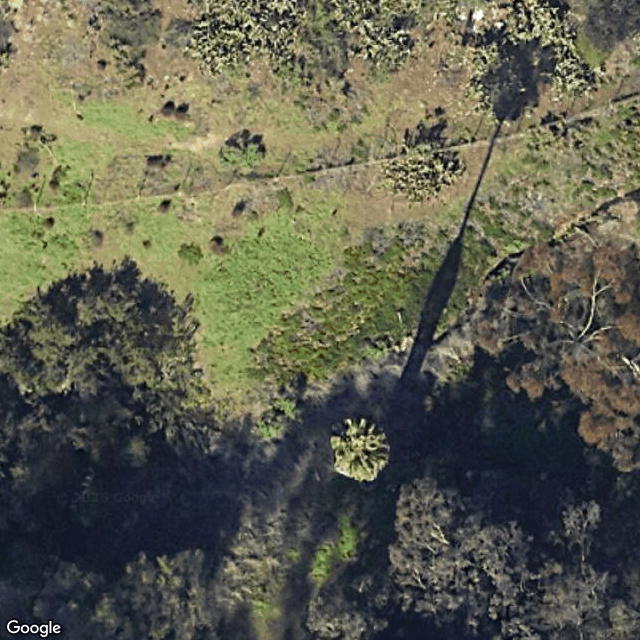palm: (325, 411, 391, 486)
